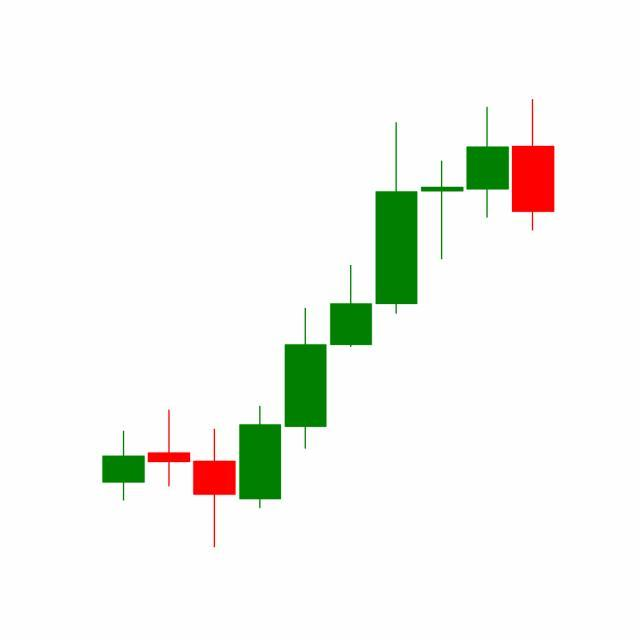Hikkake Pattern: (283, 103, 512, 453)
